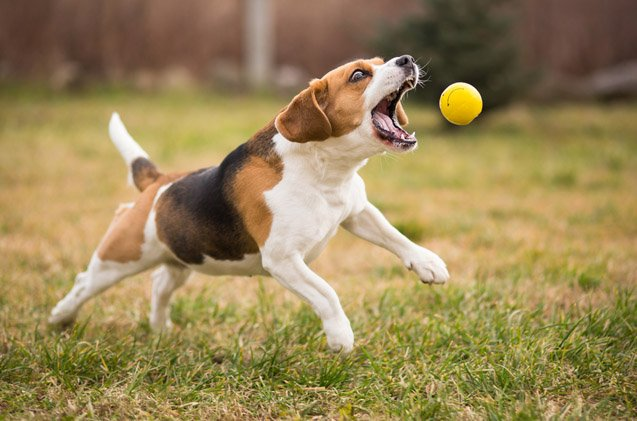ball: (439, 81, 482, 127)
dog: (48, 55, 449, 354)
